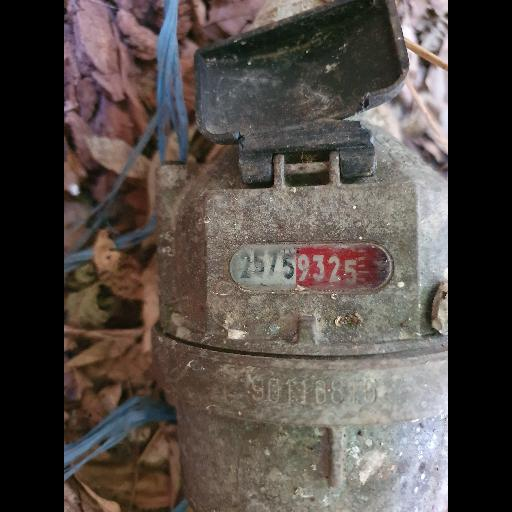2: (237, 245, 254, 291), (327, 243, 343, 291)
3: (311, 243, 328, 291)
5: (341, 243, 359, 292), (280, 244, 297, 290), (251, 245, 267, 291)
7: (266, 244, 281, 290)
9: (296, 244, 311, 291)
border_water_meter_number: (228, 240, 394, 295)
